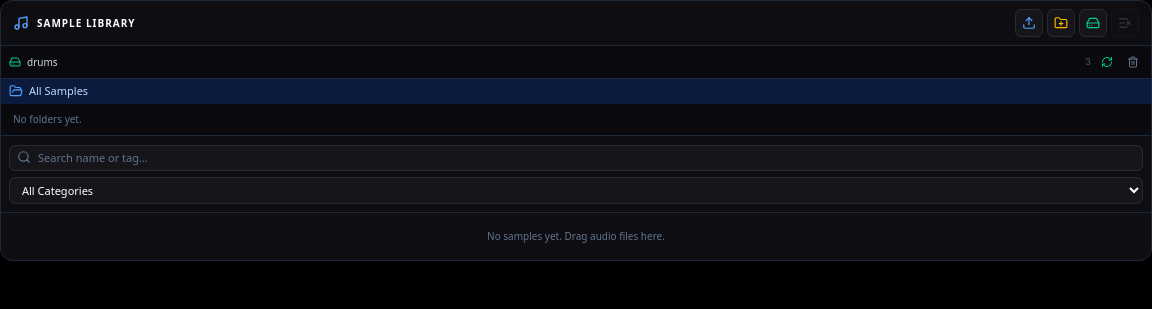
Test: SampleBrowser folder linking › blocks a rescan when read permission is denied
Expected: the text "drums" is shown, [27,54,58,68]
Step 1. Click the button titled "Rescan this folder" → coordinates (1107, 62), box [1097,52,1117,72]
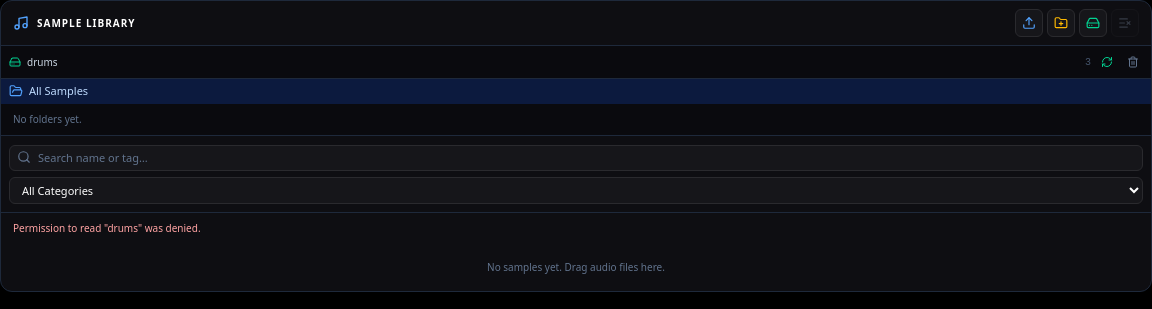
Expected: the text "Permission to read \"drums\" was denied." is shown, [13,221,201,235]
